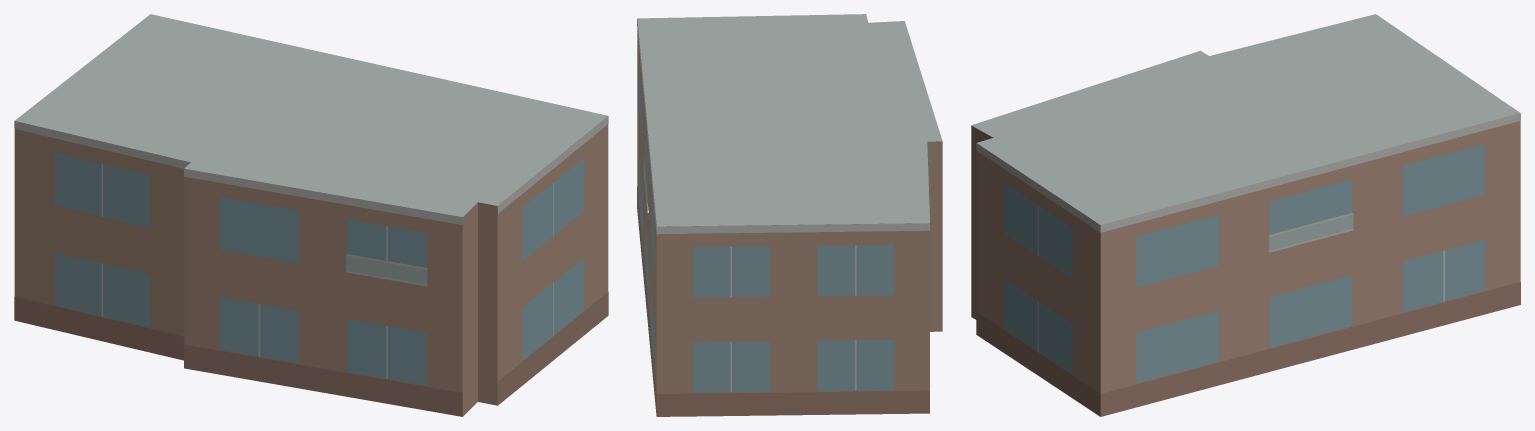
The model's file is survey-upis-32493440.glb.
The picture shows the model from 3 angles, left to right: view 1: azimuth 30°, elevation 25°; view 2: azimuth 150°, elevation 25°; view 3: azimuth 270°, elevation 25°; orthographic projection. The views are drawn at different scales.
Parts seen in each view (by area): view 1: survey-upis-32493440.tmp; view 2: survey-upis-32493440.tmp; view 3: survey-upis-32493440.tmp.
Boxes of the visible parts, x1,y1,x2,y2 form: survey-upis-32493440.tmp: (14, 14, 608, 416); survey-upis-32493440.tmp: (637, 14, 942, 416); survey-upis-32493440.tmp: (971, 14, 1520, 416).
Bounding box in the file's own units: 14.42 × 6.1 × 15.86.
